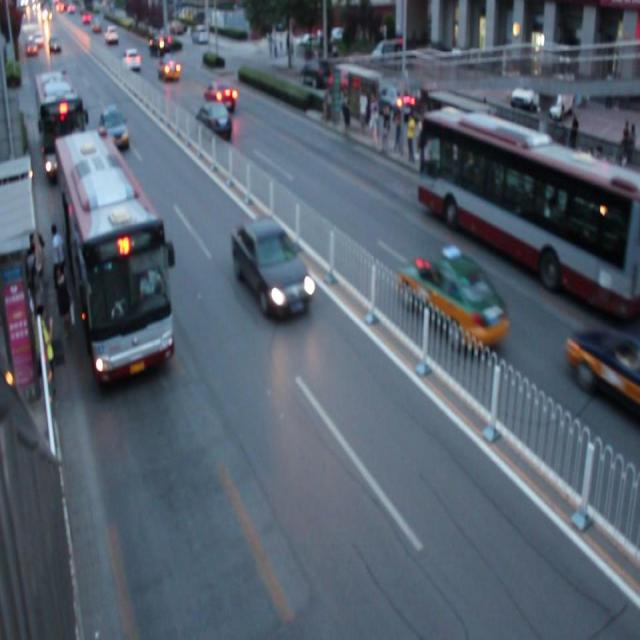car: (396, 250, 505, 352), (561, 321, 640, 420), (230, 220, 310, 315), (190, 101, 231, 142), (97, 106, 130, 152), (203, 78, 239, 114), (158, 54, 185, 85)
van: (415, 106, 640, 327), (53, 134, 172, 377), (35, 73, 86, 179)
